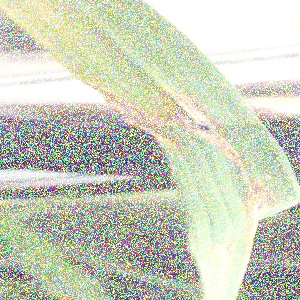Brown_Spot: (84, 78, 183, 144), (161, 80, 240, 155), (231, 163, 294, 234), (209, 231, 249, 285)
